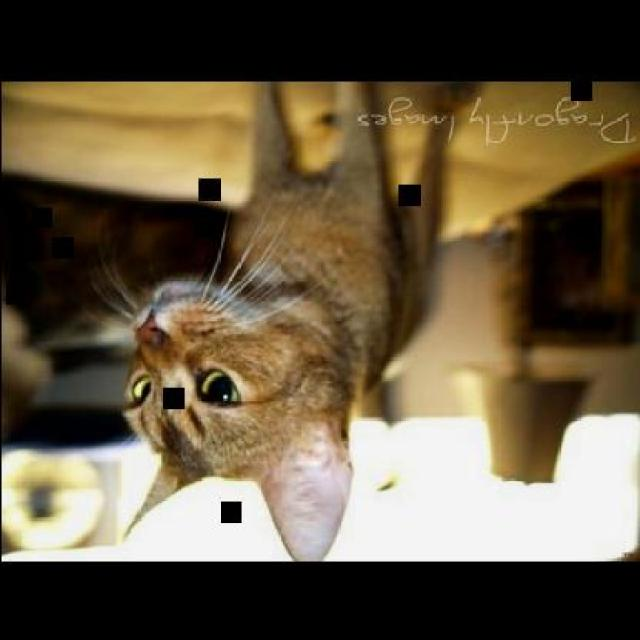unauthorized: (86, 80, 459, 560)
